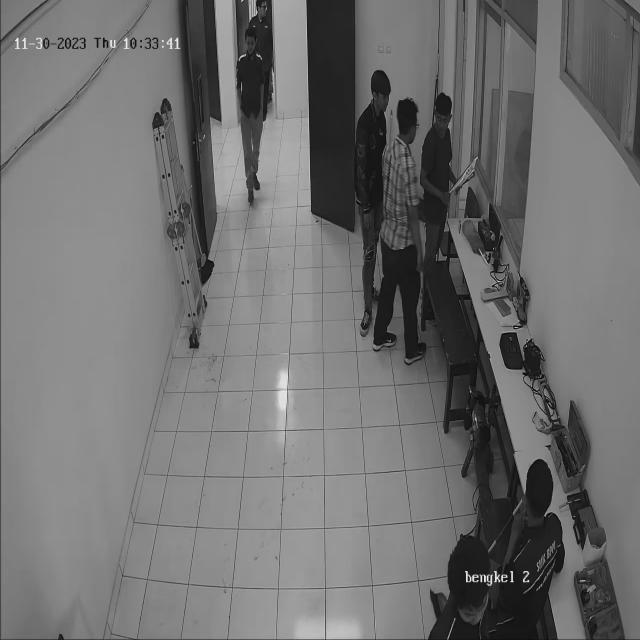person: (348, 71, 394, 359), (419, 80, 459, 348), (234, 18, 268, 208)
